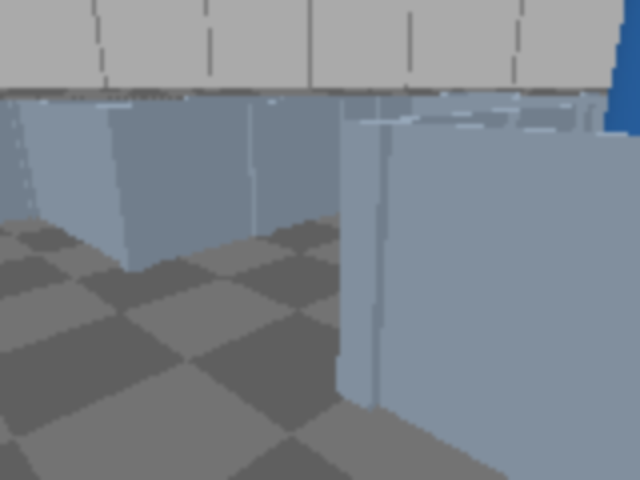person: (573, 0, 638, 391)
